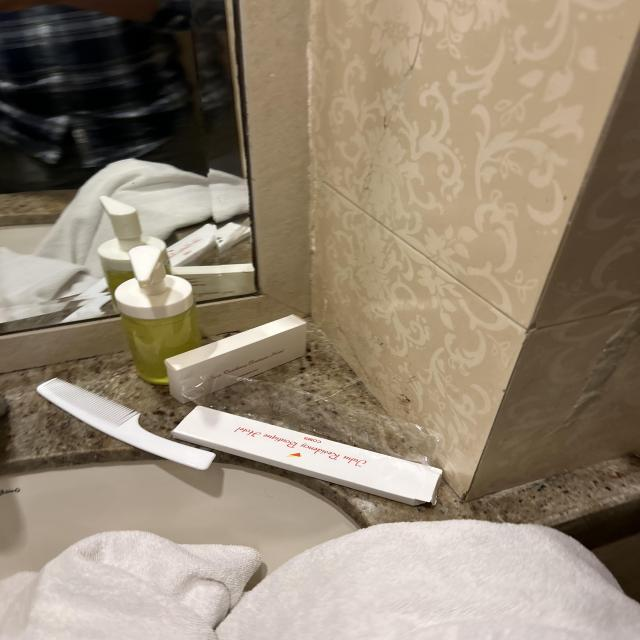mess: (0, 244, 620, 640)
